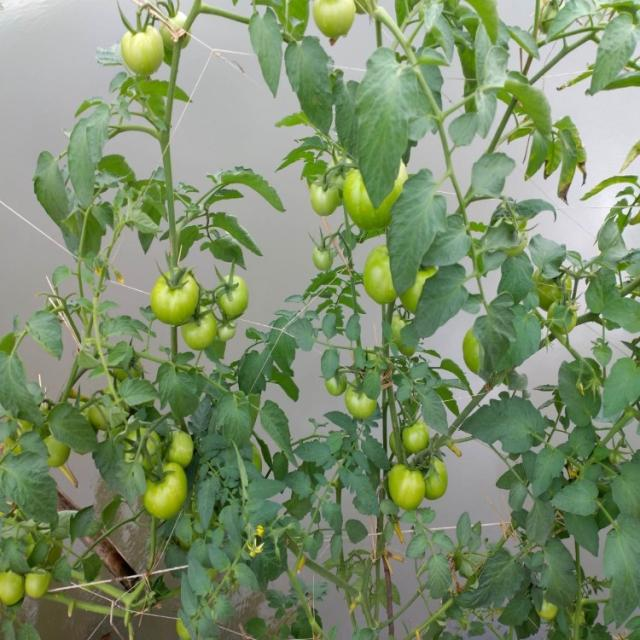tomato: (347, 175, 404, 227), (111, 28, 166, 78), (144, 468, 187, 522), (155, 275, 199, 322), (310, 1, 364, 39), (365, 244, 397, 302), (306, 174, 343, 221), (531, 266, 574, 305), (391, 461, 424, 508), (189, 324, 237, 356), (217, 271, 249, 317), (150, 430, 197, 461), (409, 266, 440, 311), (46, 434, 76, 473), (87, 396, 127, 425), (463, 333, 489, 376), (428, 456, 453, 500), (117, 427, 142, 464), (347, 388, 378, 417), (403, 421, 432, 450), (1, 571, 25, 606), (28, 568, 52, 600), (539, 591, 560, 622), (325, 372, 348, 398), (168, 7, 193, 25), (313, 246, 327, 268)
